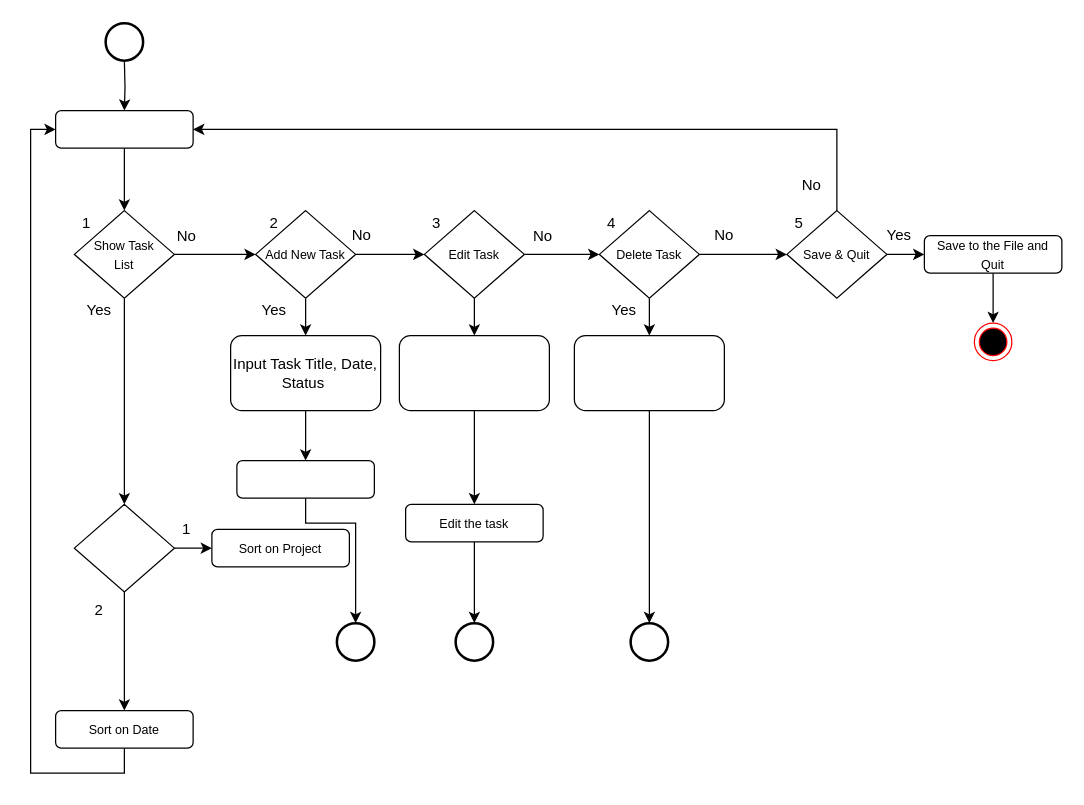
The diagram is 1084 pixels wide and 805 high, and some of its shapes have lost their labels. Here are the shapes that lost their labels. From the top down, the centre of each, then its label:
At (x=123, y=128): "Display ToDo List Choise".
At (x=473, y=372): "Input Task for Edit".
At (x=648, y=372): "Input Task Title for Delete".
At (x=305, y=478): "Add the task".
At (x=123, y=547): "Sorting 1. Date 2. Project".
